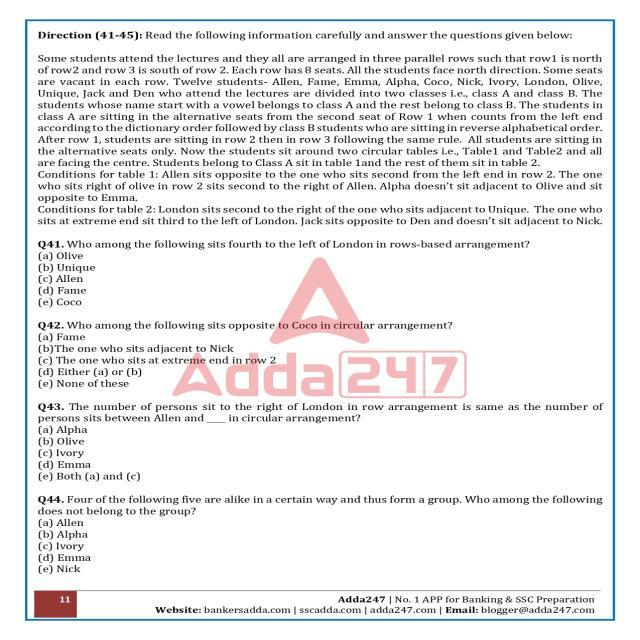Answer_Block: (34, 517, 608, 583), (30, 252, 605, 315), (30, 332, 605, 395), (26, 423, 601, 481)
Instruction: (26, 25, 601, 233)
Question_Answer_Block: (34, 490, 608, 583), (30, 233, 605, 315), (26, 399, 601, 481), (30, 318, 605, 395)
Question_Block: (34, 490, 608, 517), (26, 399, 601, 424), (26, 232, 601, 252), (30, 318, 605, 332)
Question_Paper_Area: (25, 22, 610, 584)
